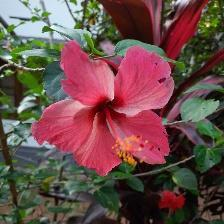hibiscus: (30, 38, 179, 178)
